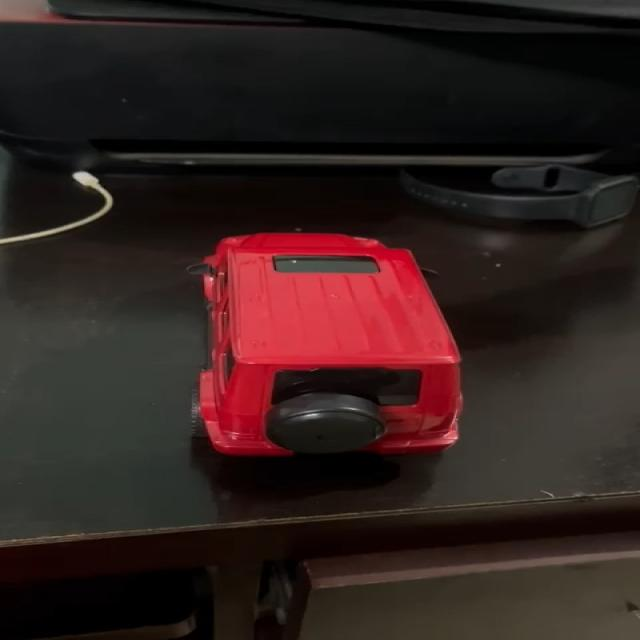light_vehicle: (181, 228, 466, 465)
